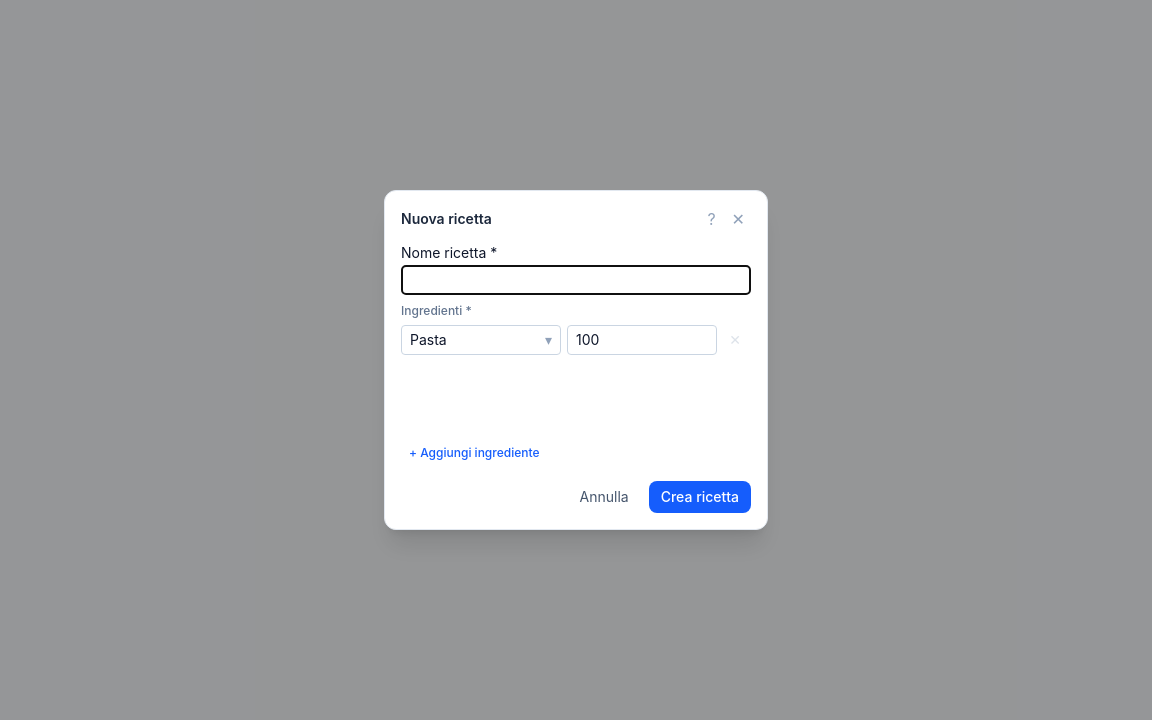
Test case: RicettaFormModal - nuova ricetta › RicettaFormModal_quantitaAZero_mostraErroreSenzaSalvare
Type "Pasta al pomodoro" into the field labelled "Nome ricetta *" at [576, 280], box top-left (401, 265), bottom-right (751, 295)
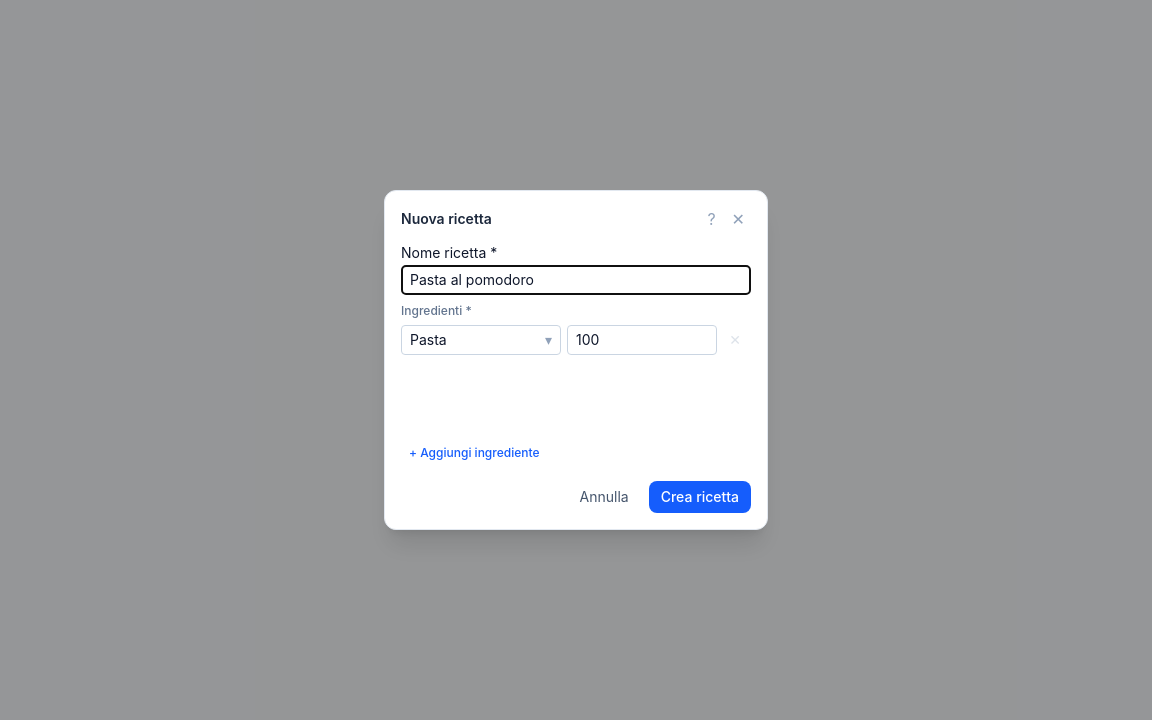
Clear the number field at [642, 340], box top-left (567, 325), bottom-right (717, 355)
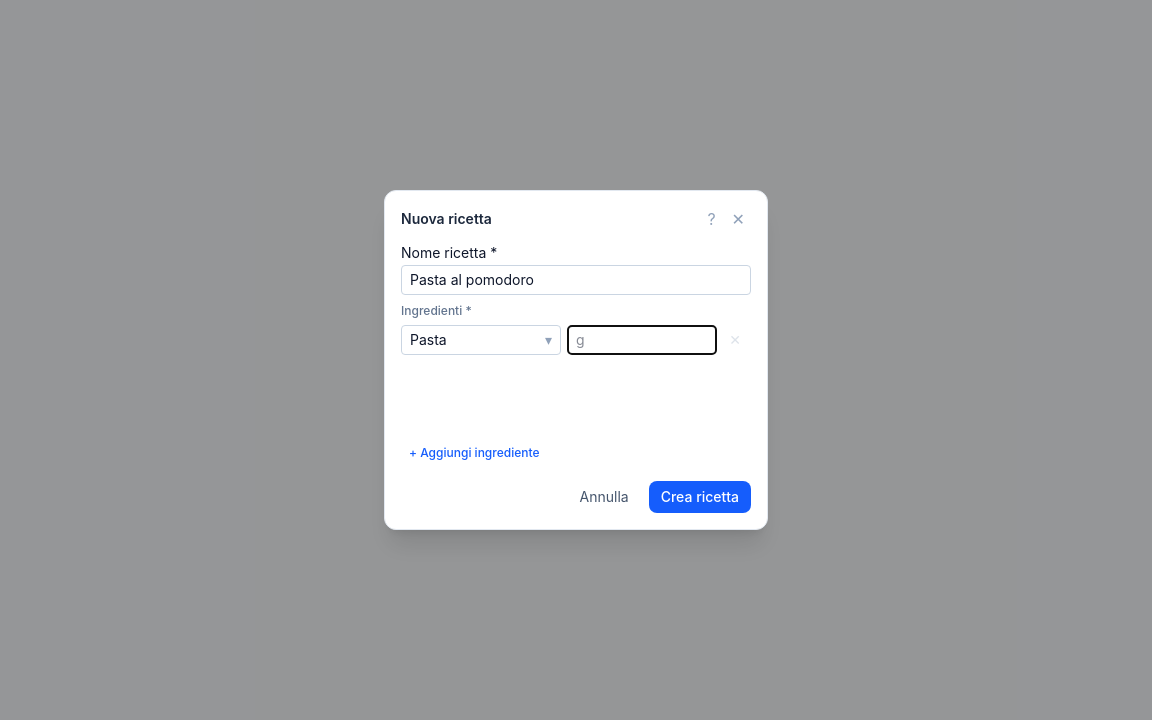
Click the button "Crea ricetta" at [700, 497], box top-left (649, 481), bottom-right (751, 513)
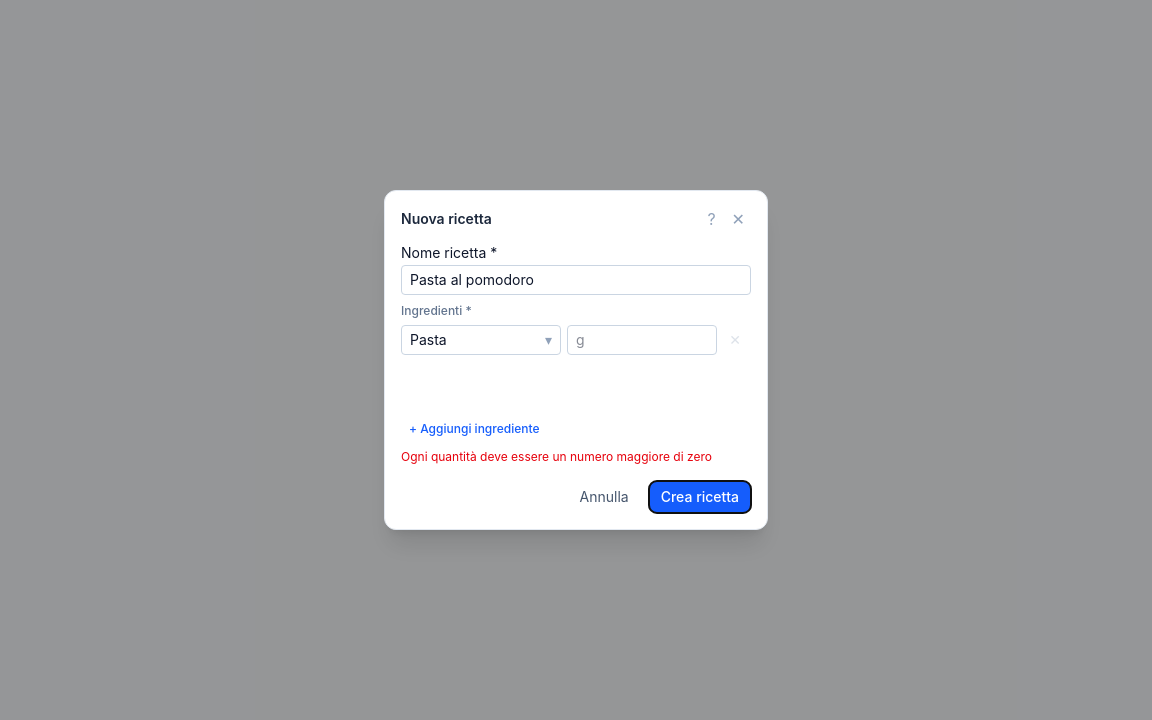
Expected: the text "Ogni quantità deve essere un numero maggiore di zero" is shown, top-left (401, 449), bottom-right (751, 465)
